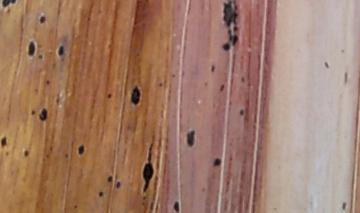tarspot: (143, 142, 154, 191), (222, 1, 237, 25), (227, 27, 239, 45), (185, 129, 196, 148), (132, 86, 141, 105), (29, 41, 36, 58), (39, 108, 47, 122), (2, 1, 17, 8), (173, 200, 181, 213), (213, 157, 222, 168), (77, 143, 85, 155), (57, 45, 65, 56), (238, 107, 246, 117), (1, 135, 7, 148), (39, 15, 46, 26), (239, 73, 247, 82), (222, 43, 231, 50), (219, 83, 226, 92), (23, 149, 30, 157), (107, 174, 114, 182), (29, 109, 36, 116), (63, 152, 70, 159), (48, 144, 54, 152), (116, 180, 121, 189), (233, 25, 238, 33), (142, 194, 147, 202), (98, 191, 104, 197), (106, 92, 112, 98), (211, 63, 215, 72), (72, 203, 78, 209), (4, 150, 10, 156), (45, 78, 50, 84), (38, 53, 43, 59), (158, 81, 163, 87), (171, 73, 176, 79)
